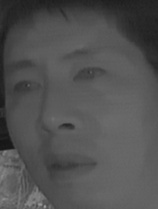eye: (71, 64, 108, 87), (10, 77, 43, 96)
mouth: (42, 149, 99, 184)
